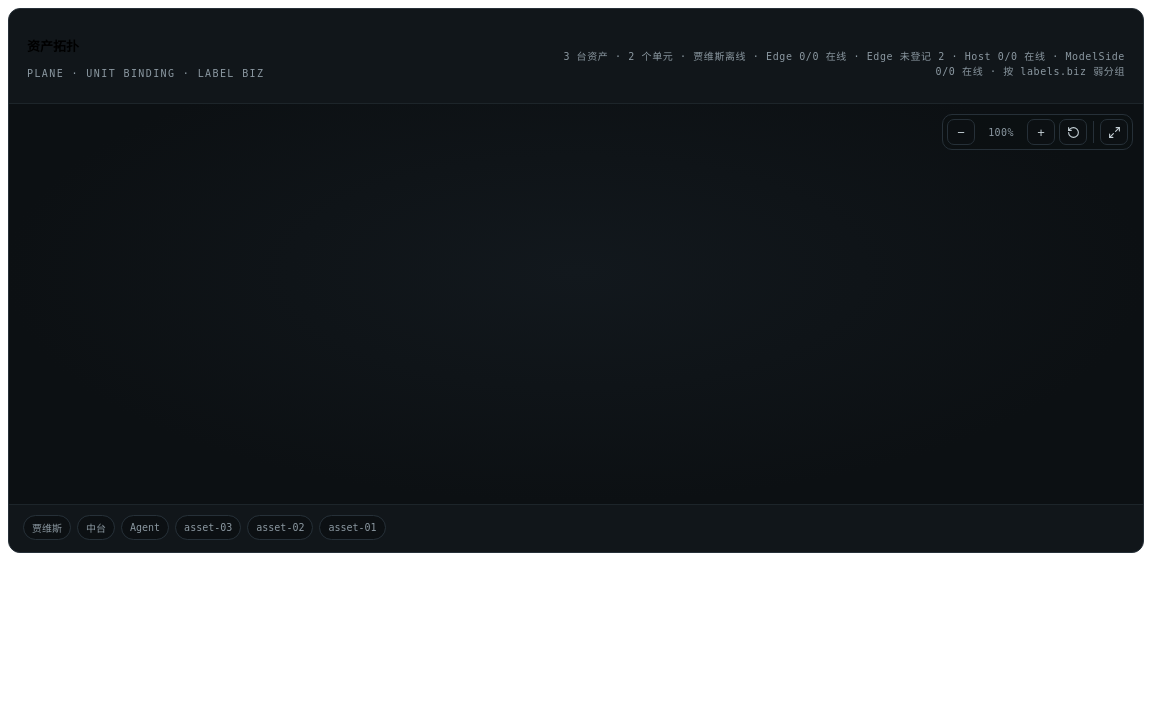
Scenario: AssetEstateMap › 受管 Agent 在中台侧显示并把档案标识回传给管理页
This screenshot has width=1152, height=720.
Click the button with aria-label "选中流量审查员".
click(145, 528)  # box left=121, top=515, right=169, bottom=540
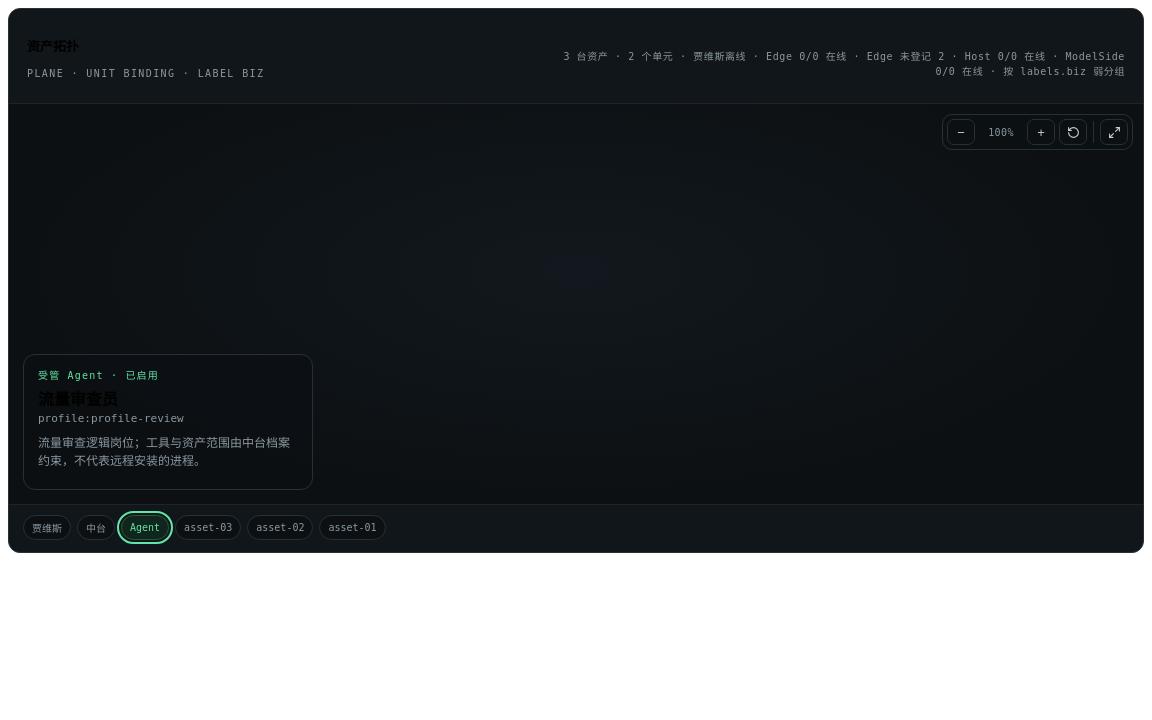
Result: the text "受管 Agent · 已启用" is shown at left=38, top=370, right=159, bottom=381
